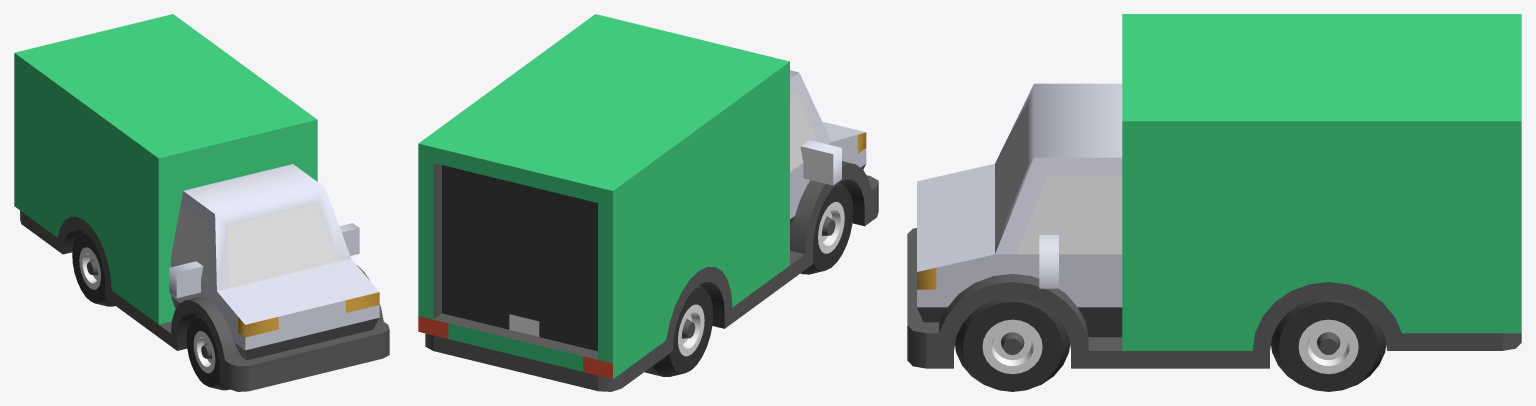
Rendered from delivery.fbx.
3 views of the same model, side by side, from view 1: azimuth 30°, elevation 25°; view 2: azimuth 150°, elevation 25°; view 3: azimuth 270°, elevation 25° (orthographic). The views are drawn at different scales.
Parts seen in each view (by area): view 1: body, wheel_backRight, wheel_frontRight; view 2: body, door, wheel_backRight, wheel_frontRight; view 3: body, wheel_backLeft, wheel_frontLeft.
Boxes of the visible parts, box(x1,y1,x2,y2) form: body: box(14, 14, 389, 391); wheel_backRight: box(72, 231, 115, 306); wheel_frontRight: box(186, 315, 229, 390); body: box(418, 14, 878, 391); door: box(442, 165, 597, 351); wheel_backRight: box(644, 285, 713, 376); wheel_frontRight: box(800, 182, 853, 274); body: box(907, 14, 1521, 368); wheel_backLeft: box(1271, 298, 1386, 391); wheel_frontLeft: box(955, 298, 1069, 391).
Size of the model in its own units: 15 by 16 by 31.5.
